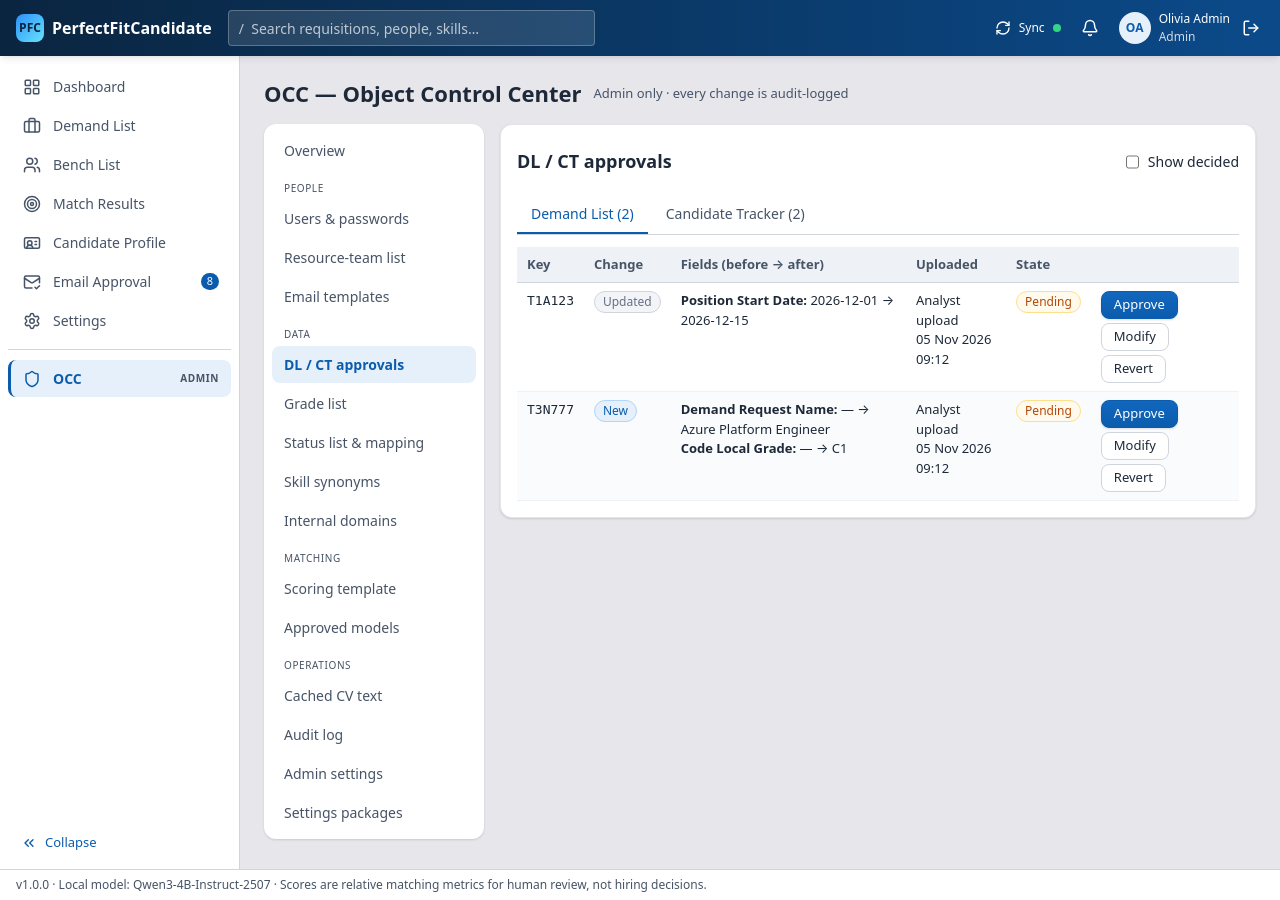
Test: OCC screens › approves a DL change and requires a reason to revert a CT change
Click the button with aria-label "Approve T1A123" at (1139, 305), box [1101,291,1178,319]
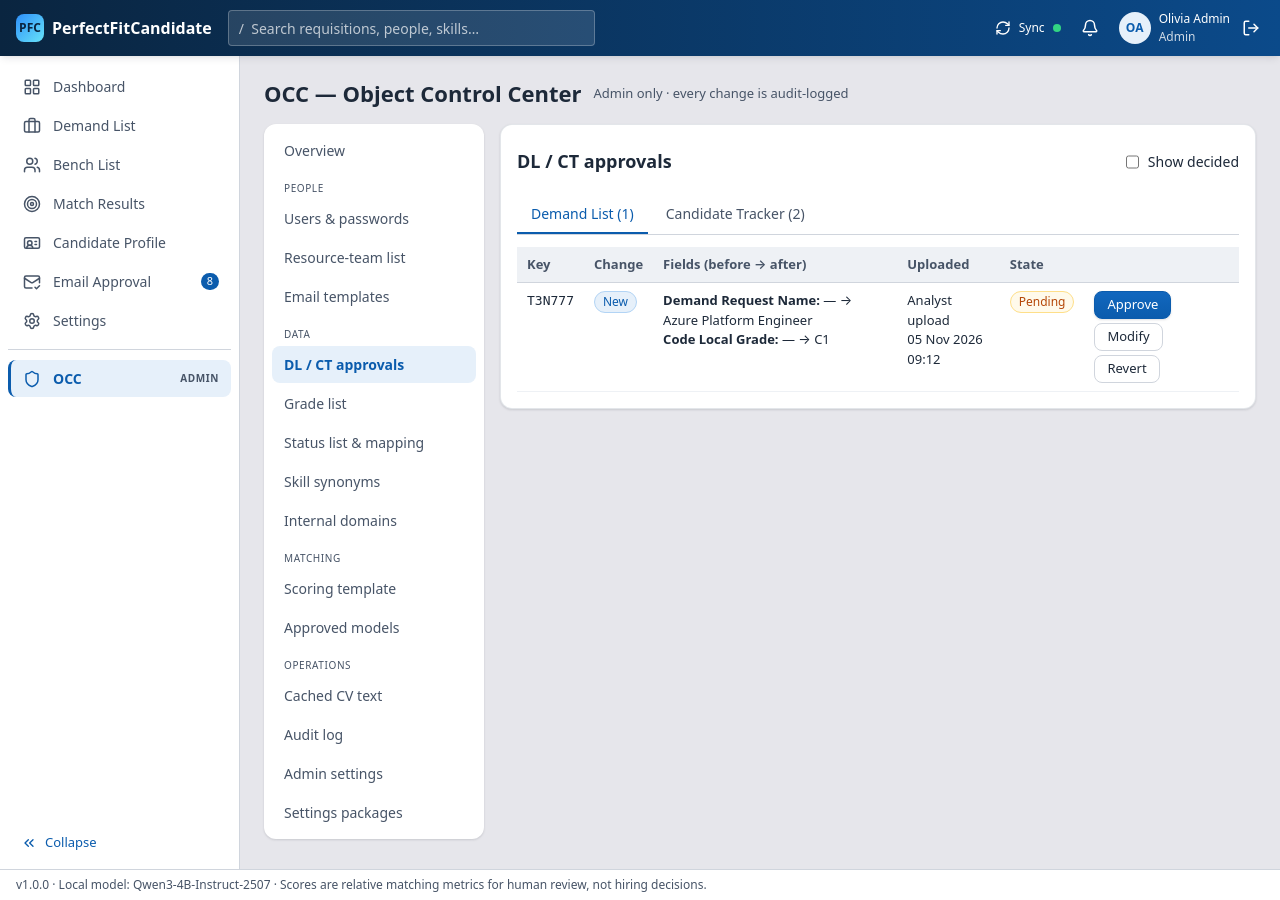
Click the tab "Candidate Tracker (2)" at (735, 214), box [652,194,819,234]
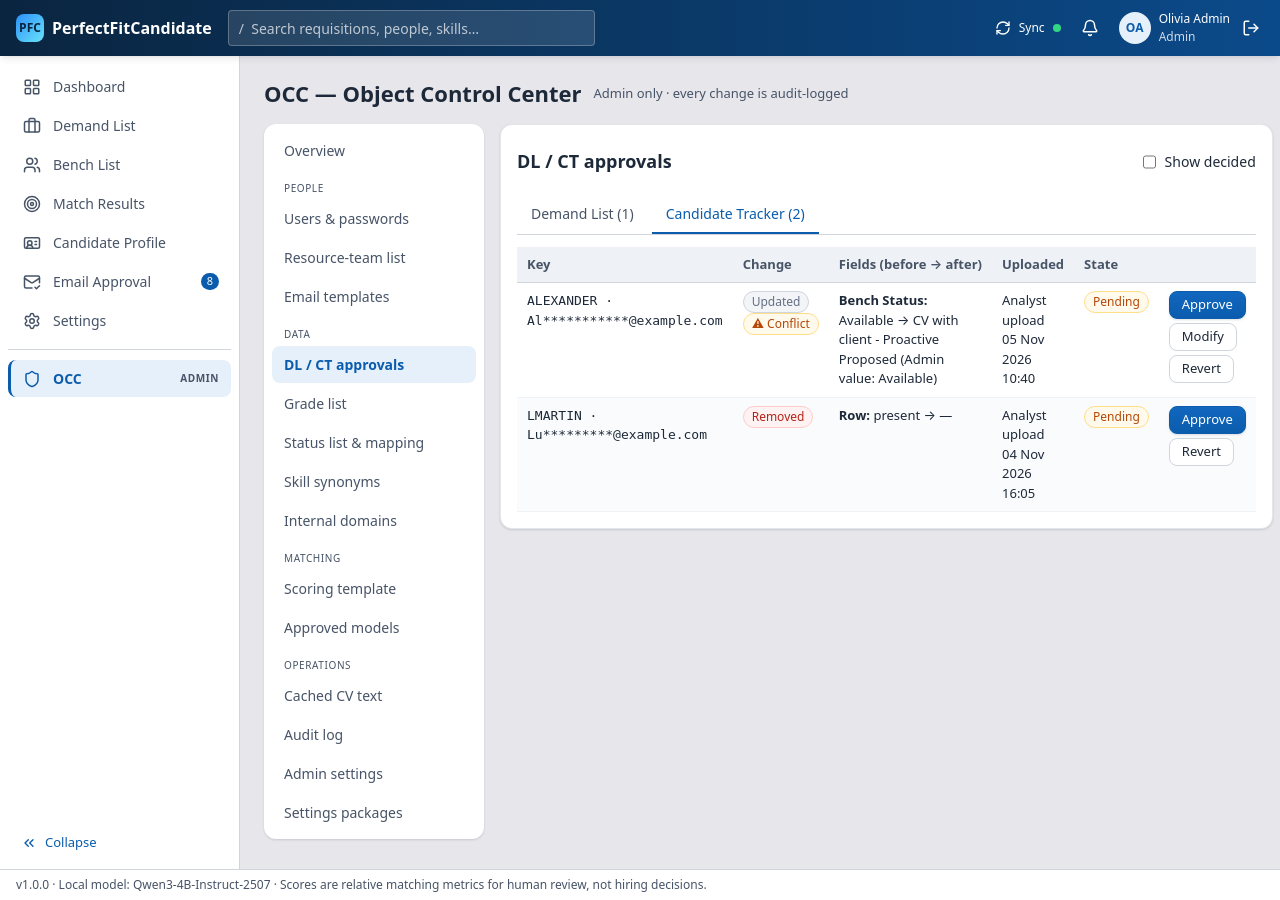
Expected: the text "⚠ Conflict" is shown, [743,313,819,335]
Click the button with aria-label "Revert ALEXANDER" at (1201, 369), box [1169,355,1234,383]
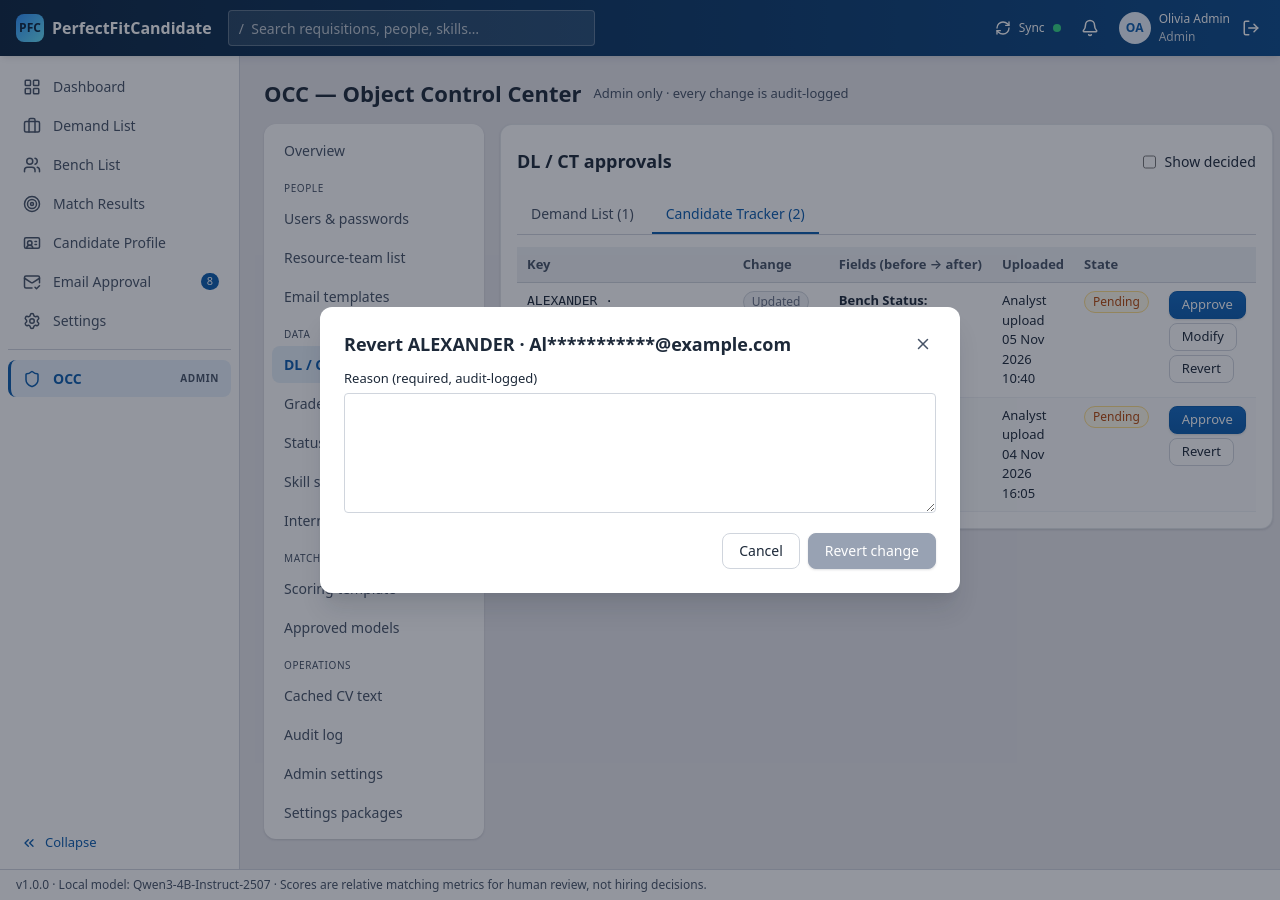
Expected: the button "Revert change" is disabled, [808,533,936,569]
Type "Status set by Admin" into the text box labelled "Reason (required, audit-logged)" at (640, 453), box [344,393,936,513]
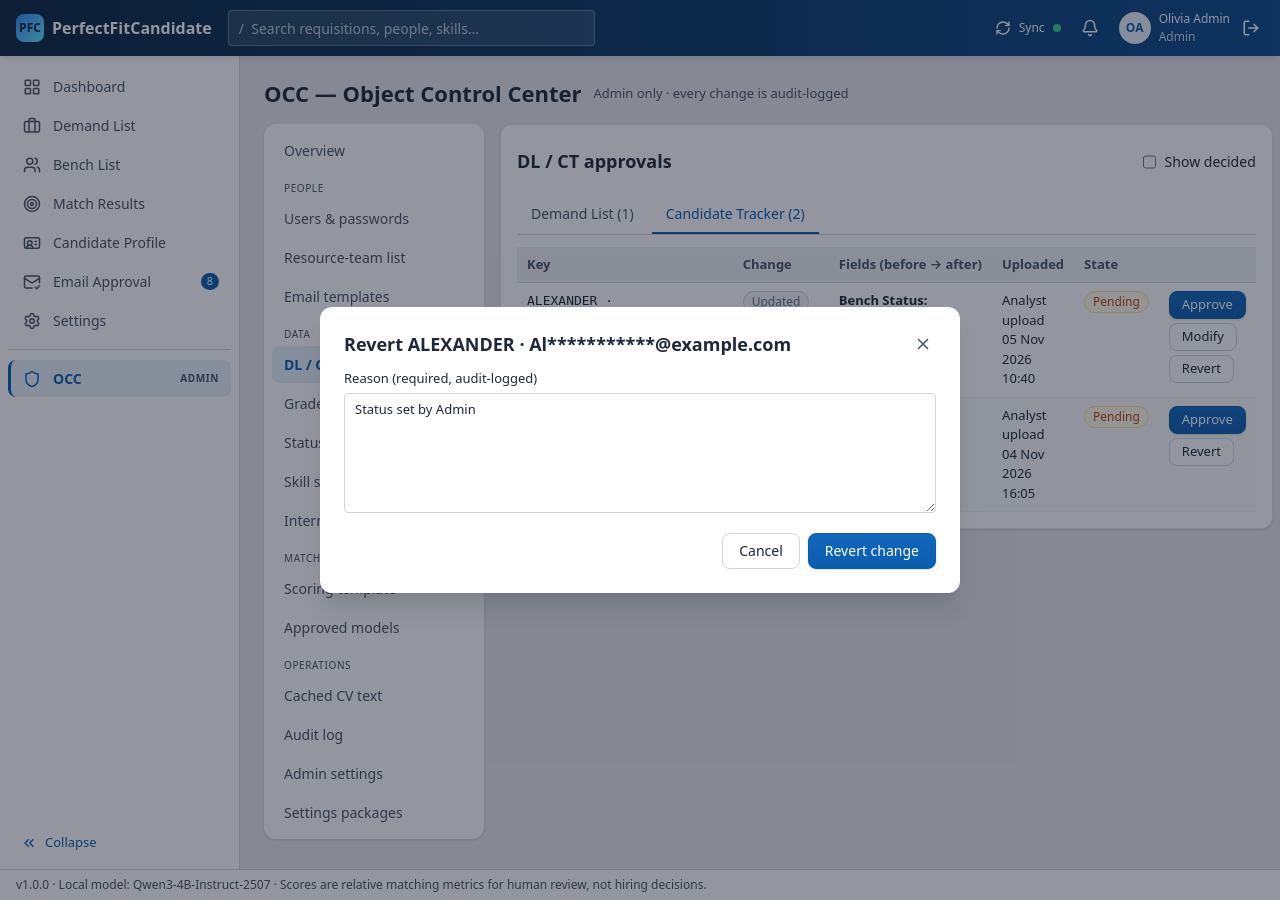
Click the button "Revert change" at (872, 551), box [808,533,936,569]
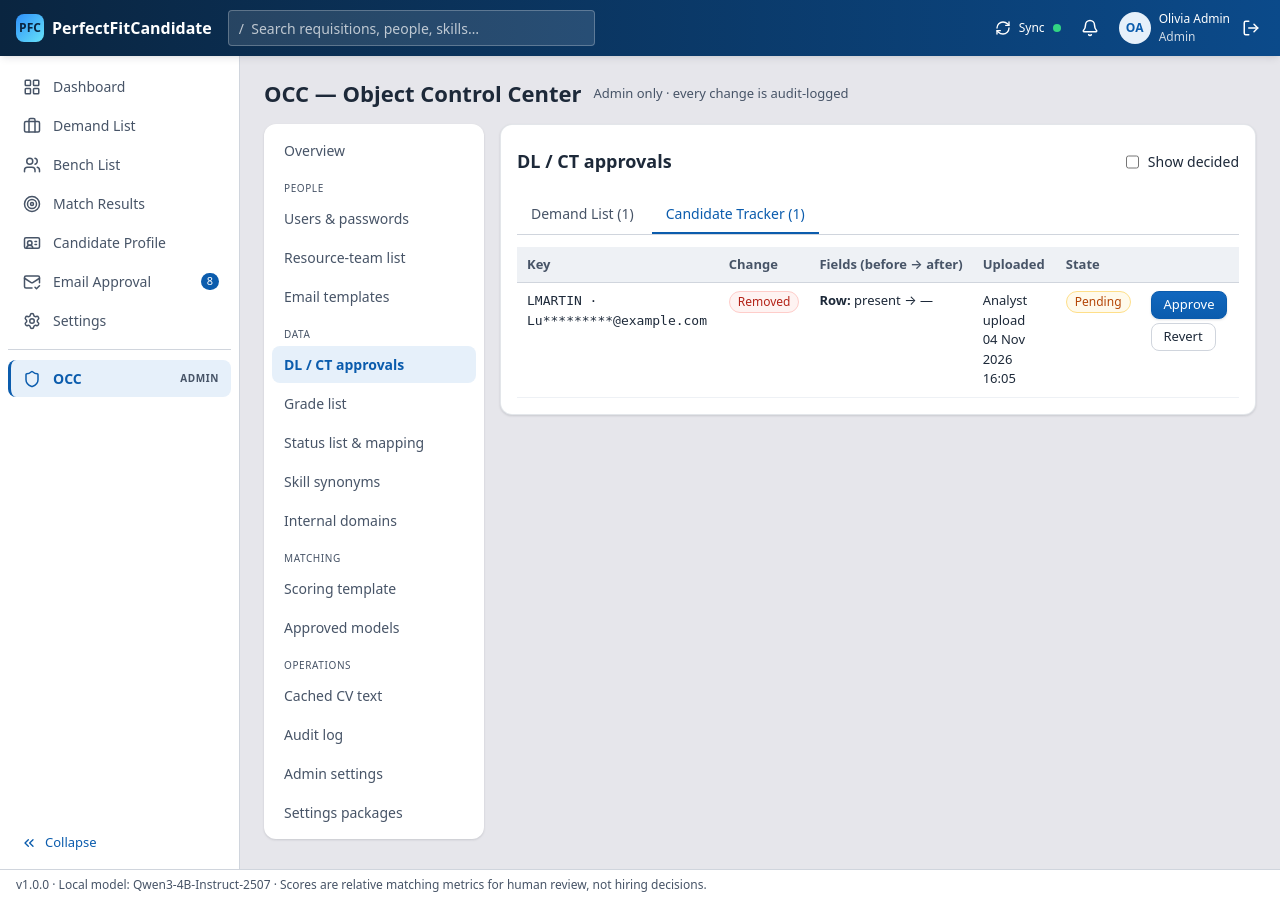
Expected: the heading "Revert ALEXANDER" is gone
